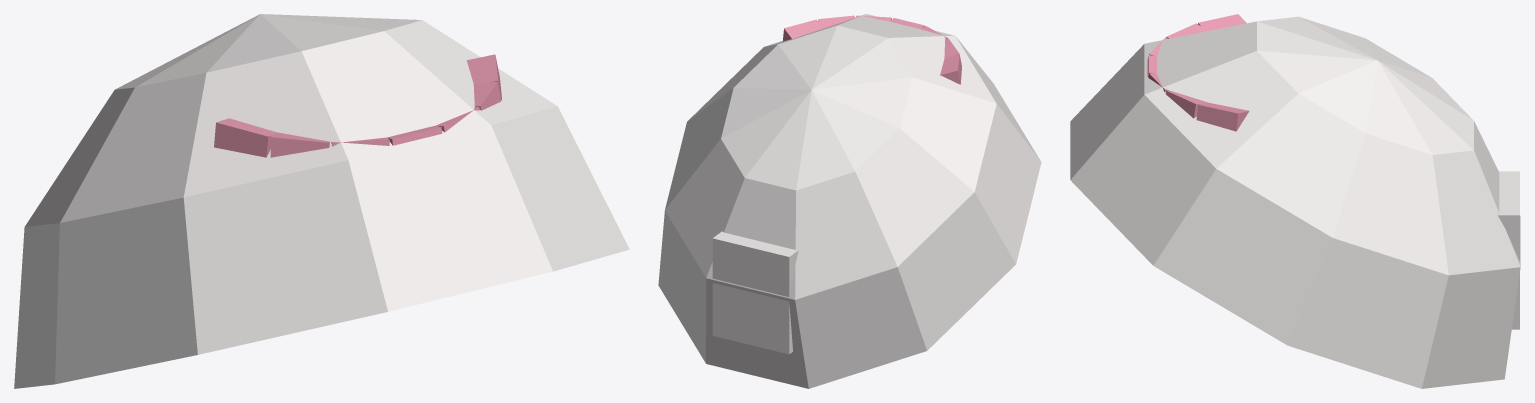
File: env_r15_seashell.glb
3 renders of one model, left to right at view 1: azimuth 30°, elevation 25°; view 2: azimuth 150°, elevation 25°; view 3: azimuth 270°, elevation 25°, orthographic. The views are drawn at different scales.
Visible parts, largest first — view 1: env_r15_seashell; view 2: env_r15_seashell; view 3: env_r15_seashell.
Part boxes in pixels (x1,y1,x2,y2): env_r15_seashell: [14, 14, 629, 388]; env_r15_seashell: [658, 14, 1041, 388]; env_r15_seashell: [1070, 14, 1520, 388].
Bounding box in the file's own units: 1.3 × 1 × 1.3.
1 material, 1 textured.
